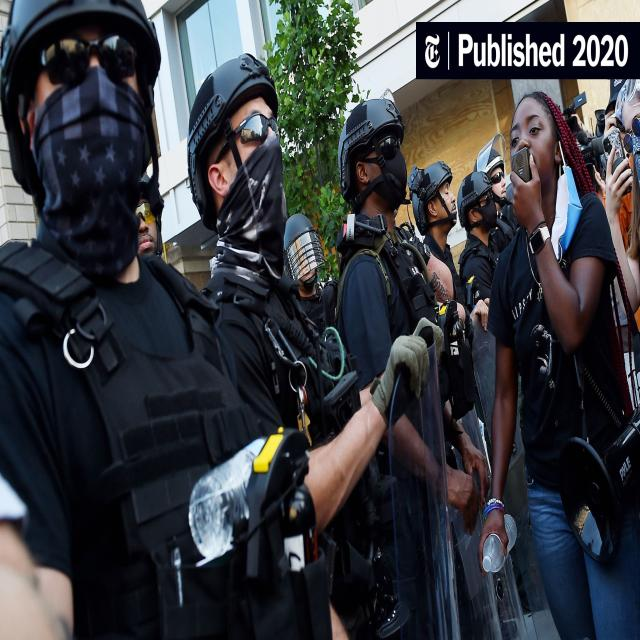police: (1, 0, 284, 640), (181, 59, 383, 575), (325, 72, 455, 524), (410, 129, 506, 559)
